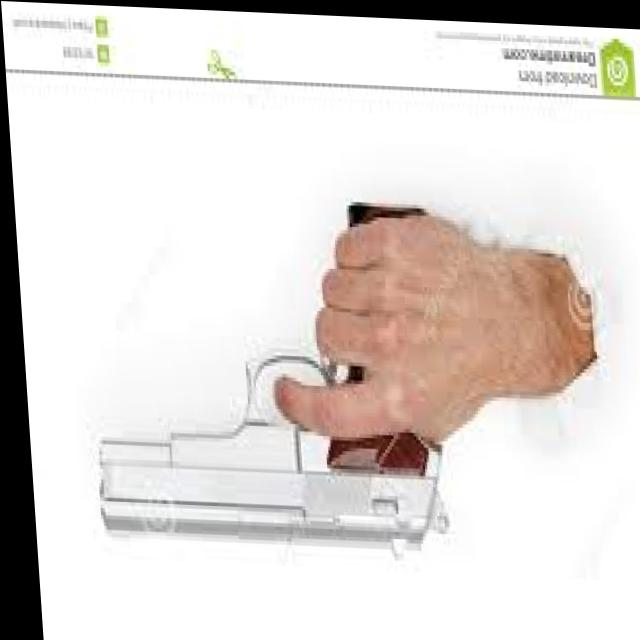handgun: (73, 181, 452, 565)
